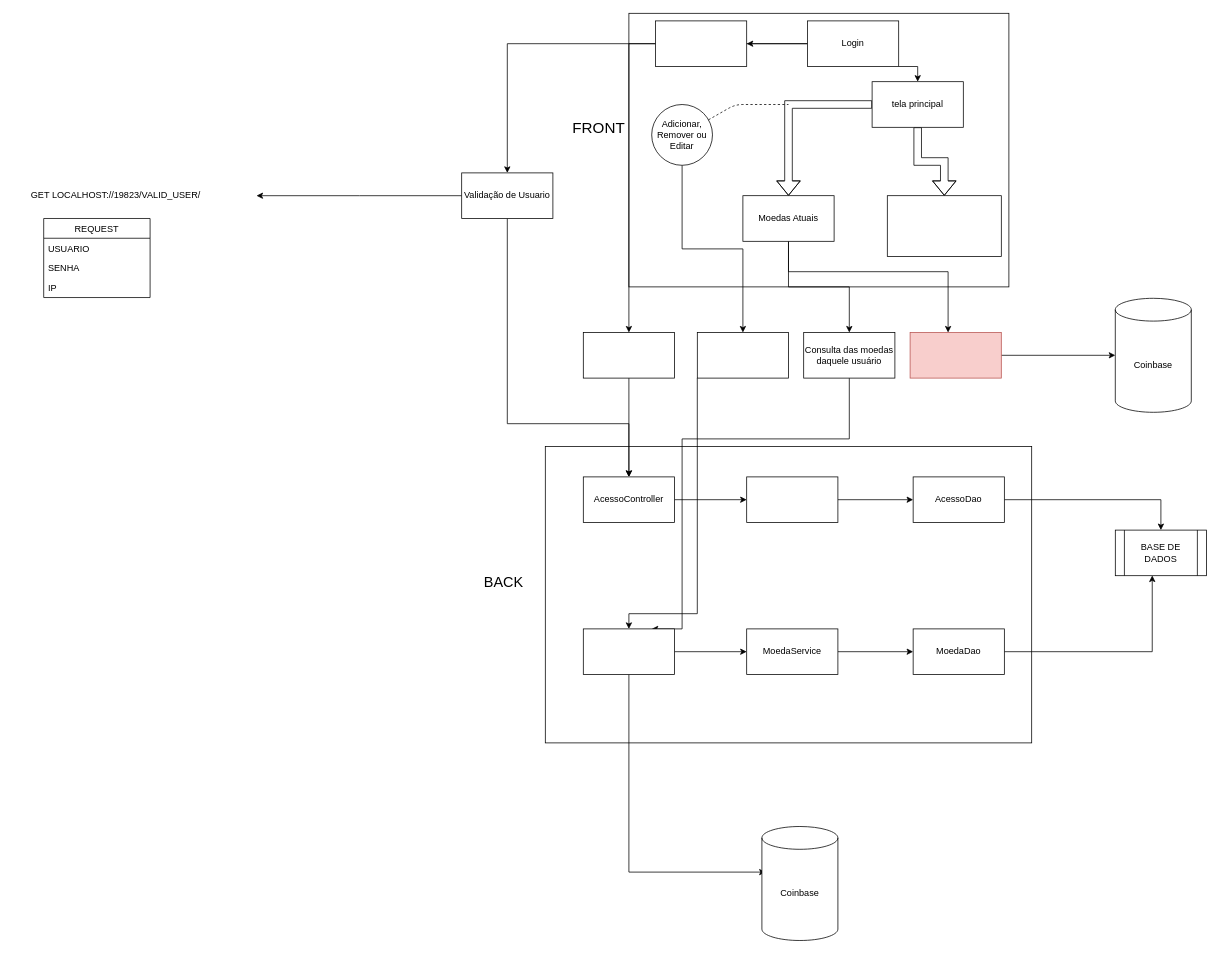
The diagram is 1220 pixels wide and 954 high, and some of its shapes have lost their labels. Here are the shapes that lost their labels. From the top down, the centre of each, then its label:
At point (701, 43): "Cadastro".
At point (944, 225): "Configuracoes/Usuario".
At point (628, 355): "Registro Usuario".
At point (742, 355): "CRUD das Moedas do Usuario".
At point (955, 355): "Valores das Moedas".
At point (792, 499): "AcessoService".
At point (628, 651): "MoedaController".
